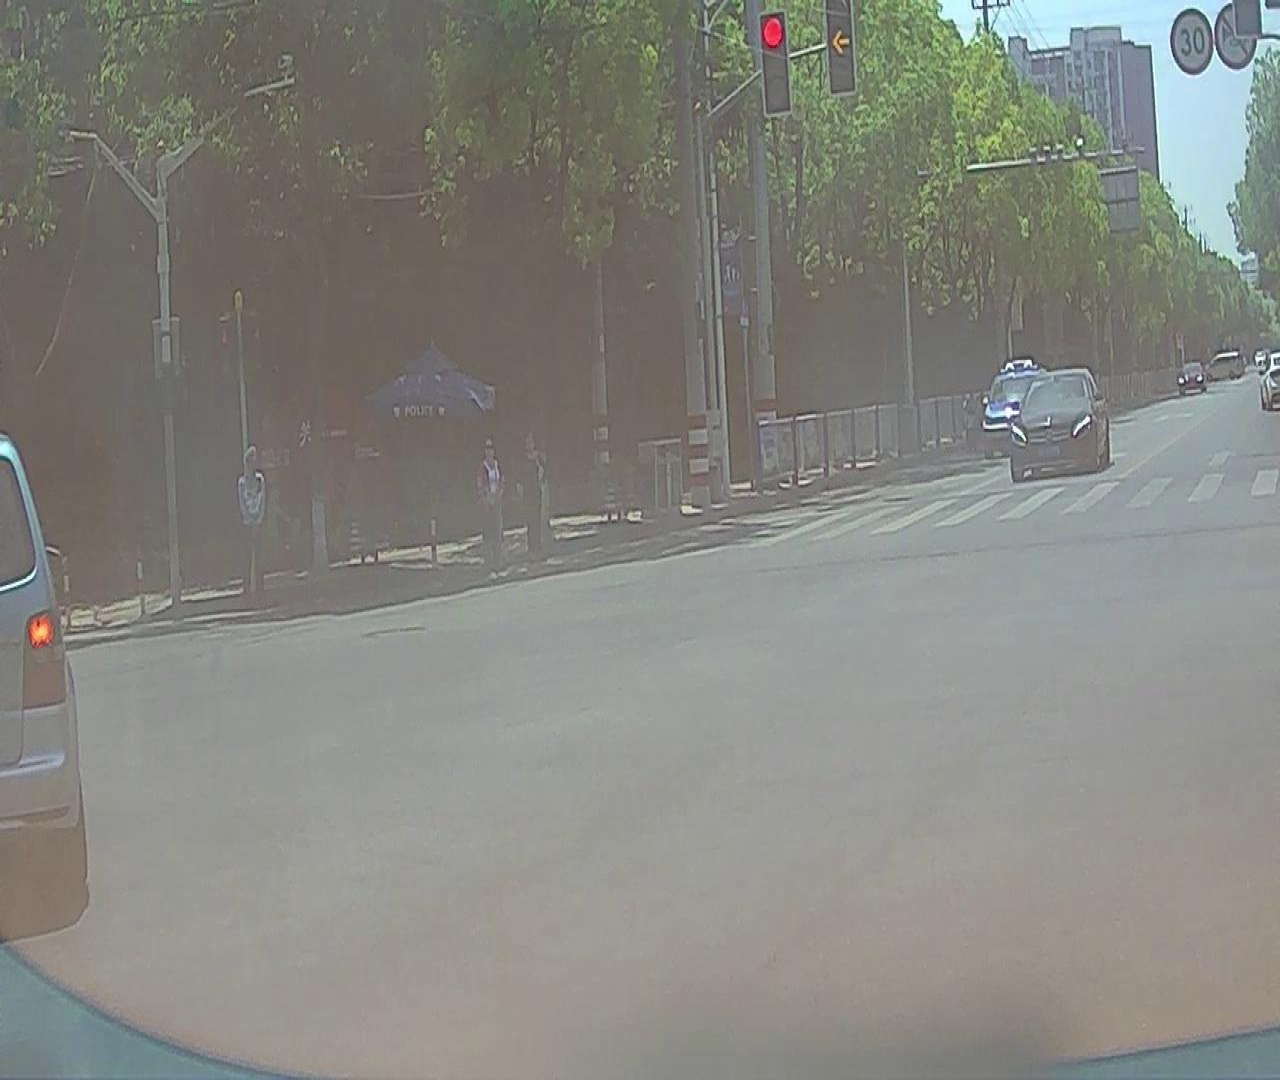red: (761, 13, 788, 114)
yellow: (827, 1, 855, 91)
